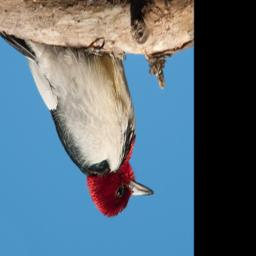Woodpecker: (0, 32, 154, 217)
